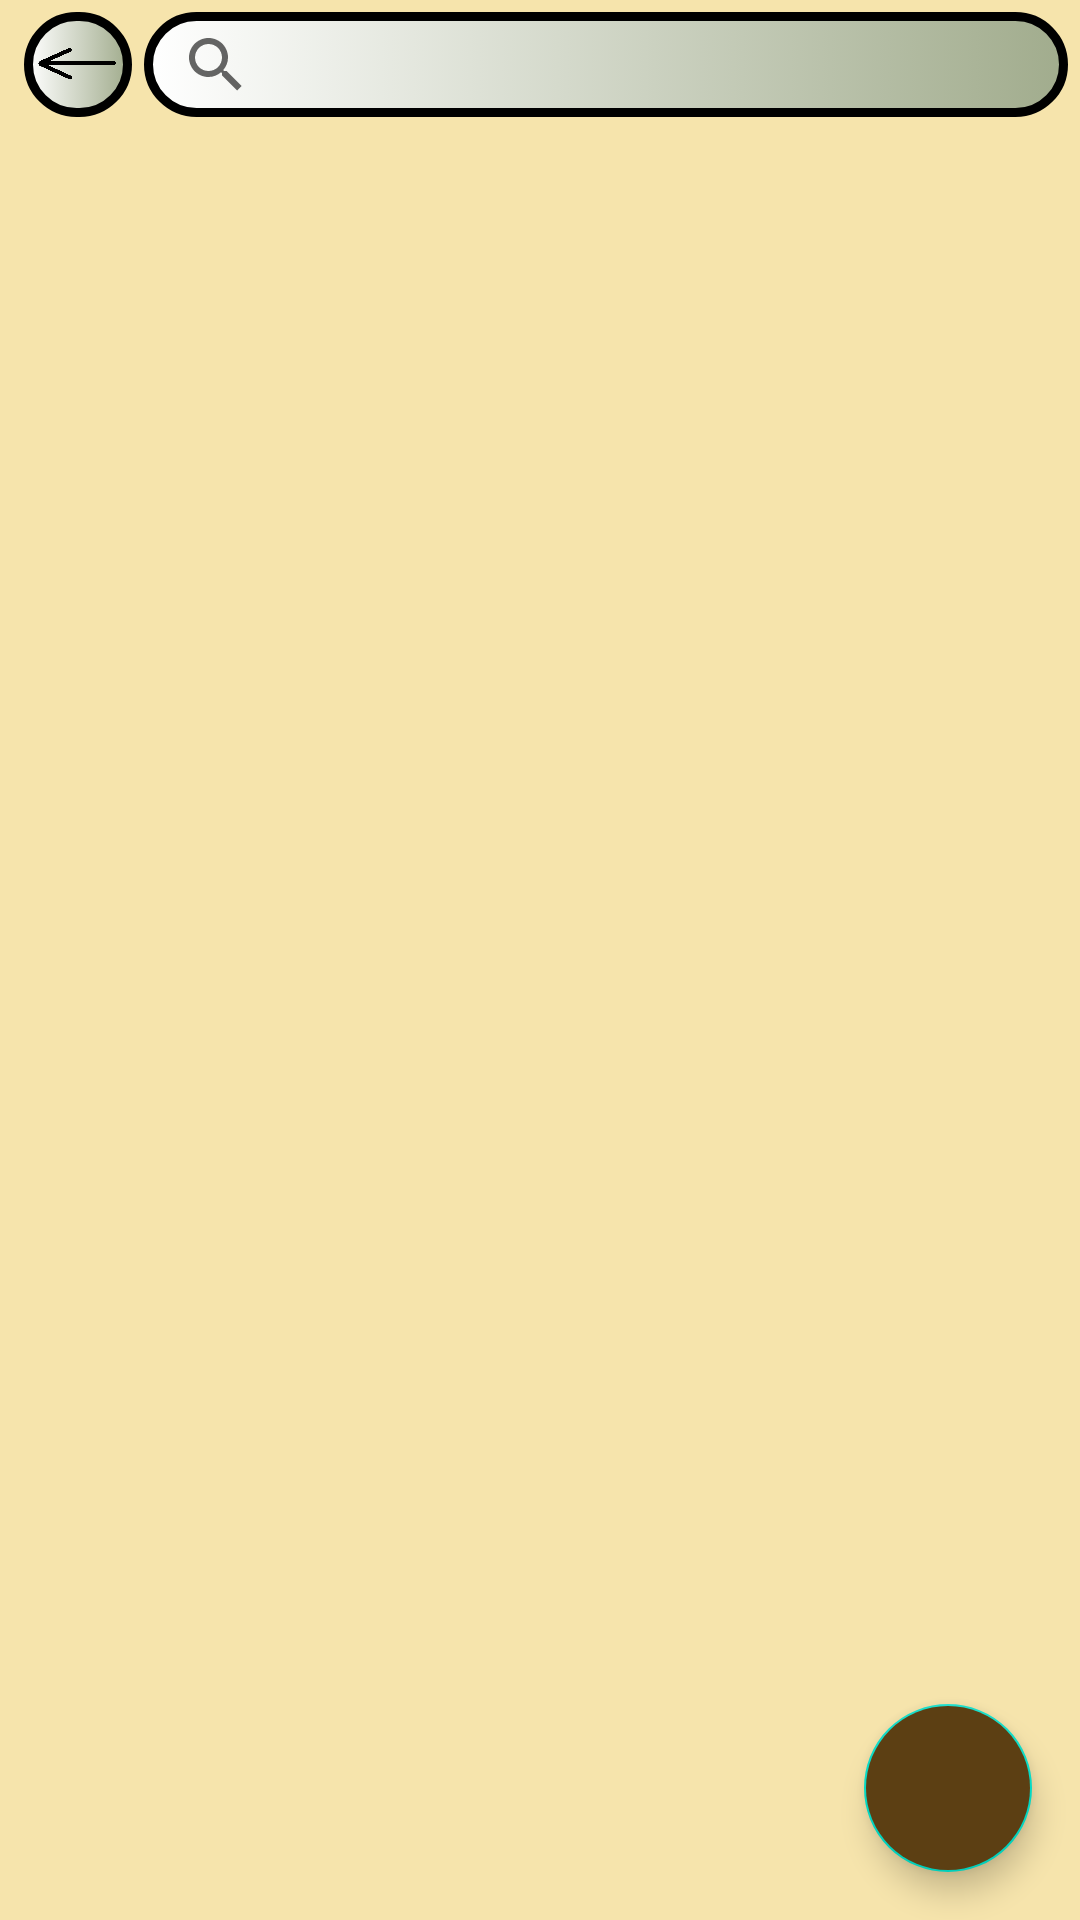

Where to tap for icons on this 1080 × 1920 app screen, as point (x, y):
backs: point (78, 64)
